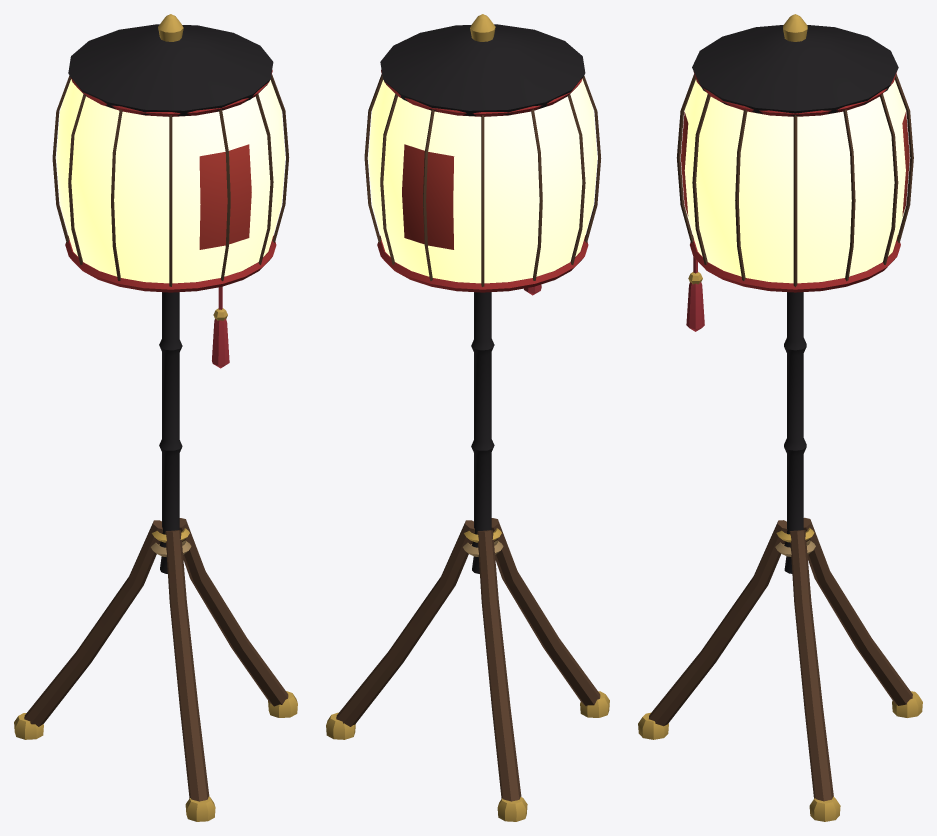
File: deco_lamp_floor.fbx
3 views of the same model, side by side, from view 1: azimuth 30°, elevation 25°; view 2: azimuth 150°, elevation 25°; view 3: azimuth 270°, elevation 25° (orthographic).
Parts seen in each view (by area): view 1: Lamp_Floor_Shade, Lamp_Floor_Stand; view 2: Lamp_Floor_Shade, Lamp_Floor_Stand; view 3: Lamp_Floor_Shade, Lamp_Floor_Stand.
Boxes of the visible parts, x1,y1,x2,y2 form: Lamp_Floor_Shade: (52,14,289,368); Lamp_Floor_Stand: (14,292,297,821); Lamp_Floor_Shade: (364,14,601,295); Lamp_Floor_Stand: (326,292,609,821); Lamp_Floor_Shade: (676,14,913,331); Lamp_Floor_Stand: (638,292,922,821).
Size of the model in its own units: 75.99 by 221 by 77.15.
